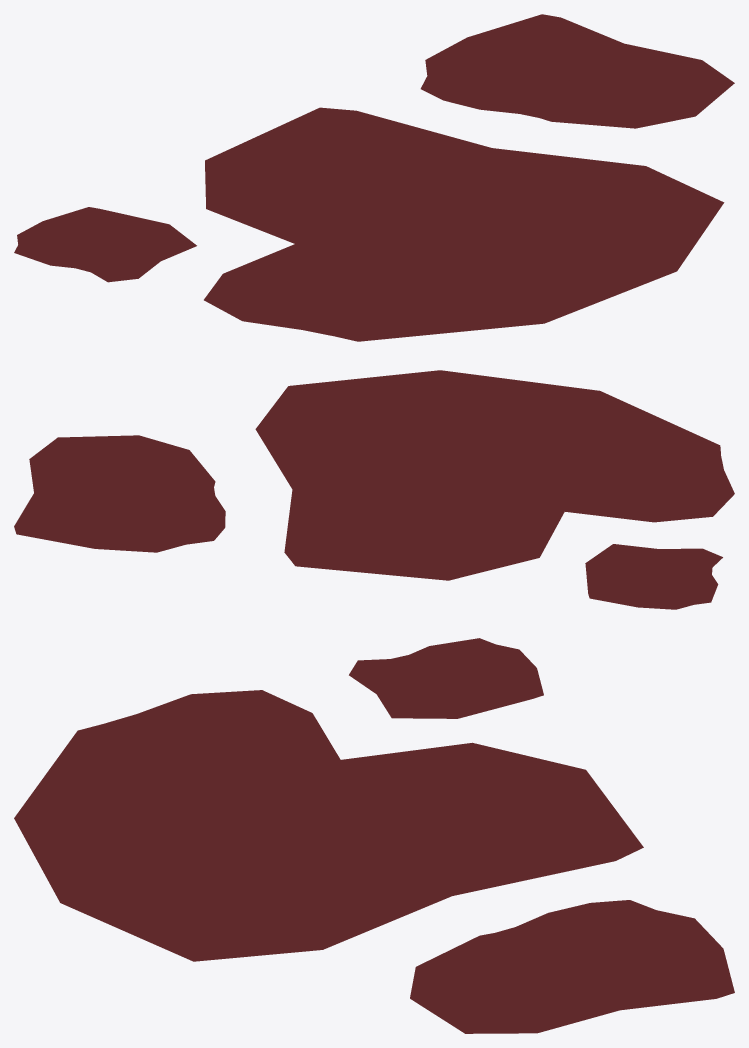
Rendered from BloodSplat-transformed.glb.
The picture shows the model from 3 angles, top to bottom: view 1: azimuth 30°, elevation 25°; view 2: azimuth 150°, elevation 25°; view 3: azimuth 270°, elevation 25°; orthographic projection. The views are drawn at different scales.
Visible parts, largest first — view 1: Blood_2; view 2: Blood_2; view 3: Blood_2.
Boxes of the visible parts, <box> form: Blood_2: <box>14,14,734,341</box>; Blood_2: <box>14,370,734,609</box>; Blood_2: <box>14,638,734,1033</box>.
Size of the model in its own units: 1.71 by 0 by 1.32.
Materials: 1 (1 with a texture image).
